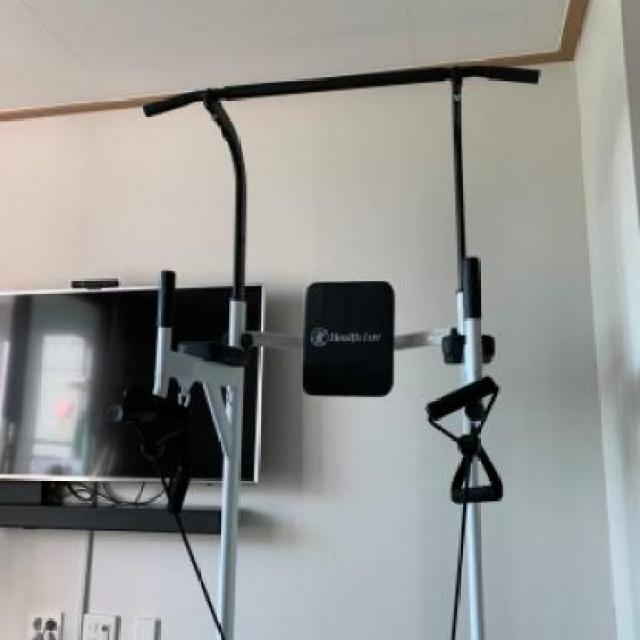chinning dipping: (142, 66, 540, 640)
